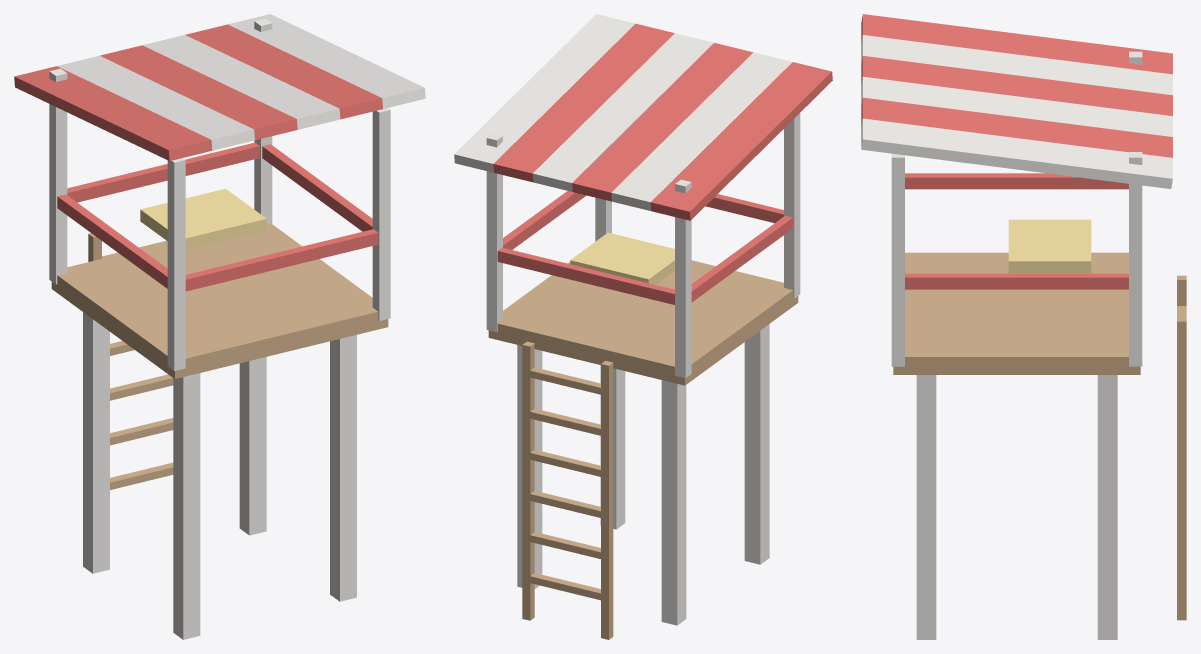
Rendered from LifeguardTower.fbx.
3 renders of one model, left to right at view 1: azimuth 30°, elevation 25°; view 2: azimuth 150°, elevation 25°; view 3: azimuth 270°, elevation 25°, orthographic. The views are drawn at different scales.
Parts seen in each view (by area): view 1: LifeguardTower; view 2: LifeguardTower; view 3: LifeguardTower.
Boxes of the visible parts, x1=… form: LifeguardTower: x1=14, y1=14, x2=425, y2=639; LifeguardTower: x1=454, y1=14, x2=832, y2=639; LifeguardTower: x1=861, y1=14, x2=1186, y2=639.
Size of the model in its own units: 1.8 by 3.49 by 1.98.
